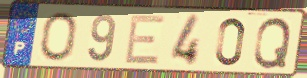0: (214, 16, 247, 67)
4: (168, 13, 202, 69)
9: (86, 12, 118, 64)
E: (122, 14, 168, 66)
O: (39, 10, 79, 63)
Q: (252, 16, 294, 71)
